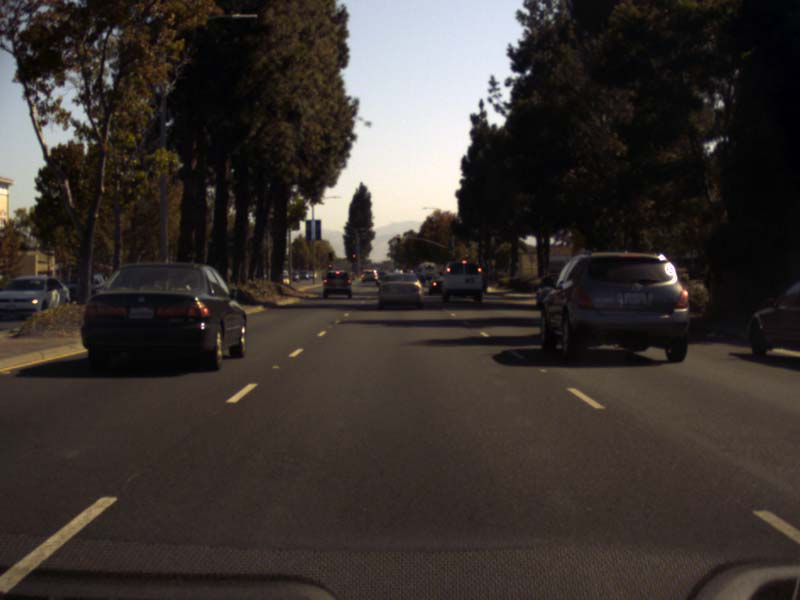Red: (351, 252, 356, 260), (396, 233, 401, 240), (328, 263, 331, 268)
